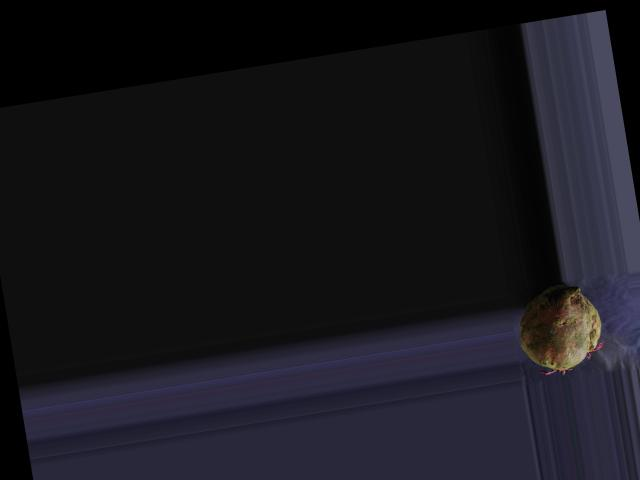beet: (513, 279, 608, 379)
